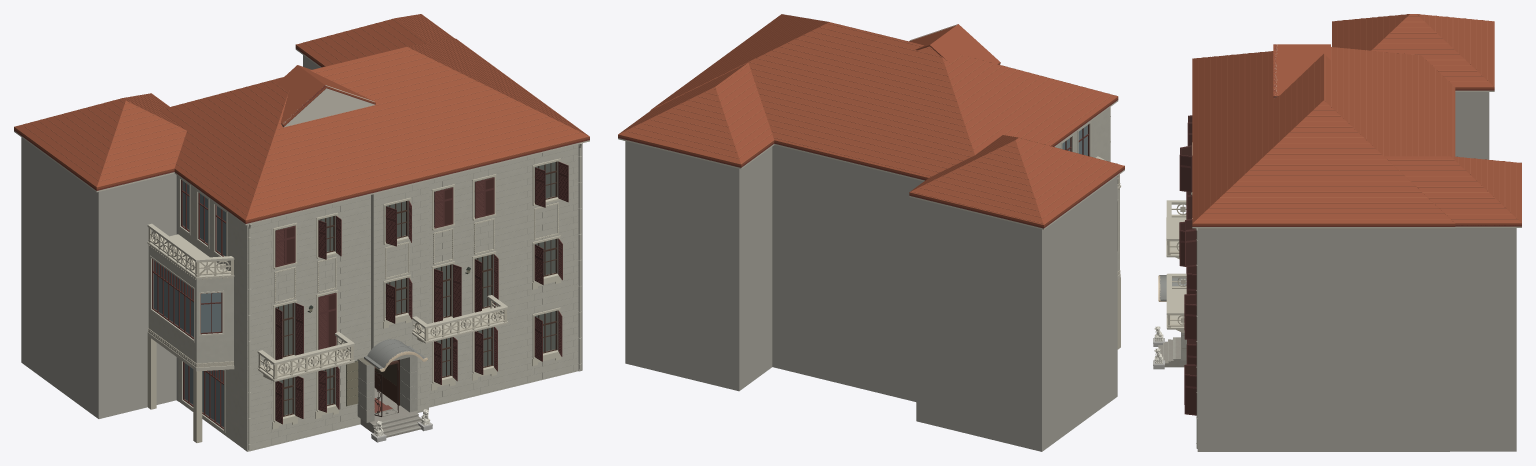
The model's file is xuhui-shaanxi-202-former-yihe-hospital-web.glb.
3 views of the same model, side by side, from view 1: azimuth 30°, elevation 25°; view 2: azimuth 150°, elevation 25°; view 3: azimuth 270°, elevation 25° (orthographic). The views are drawn at different scales.
Parts seen in each view (by area): view 1: 怡和医院旧址庭院立面与拱顶门廊; view 2: 怡和医院旧址庭院立面与拱顶门廊; view 3: 怡和医院旧址庭院立面与拱顶门廊.
Boxes of the visible parts, x1,y1,x2,y2 form: 怡和医院旧址庭院立面与拱顶门廊: [14, 14, 589, 451]; 怡和医院旧址庭院立面与拱顶门廊: [618, 14, 1124, 451]; 怡和医院旧址庭院立面与拱顶门廊: [1153, 14, 1521, 451].
Size of the model in its own units: 28.98 by 20.29 by 22.33.
39 materials, 3 textured.
